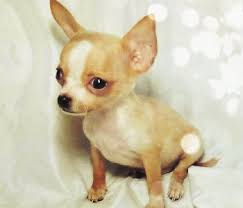chihuahua: (40, 1, 190, 165)
